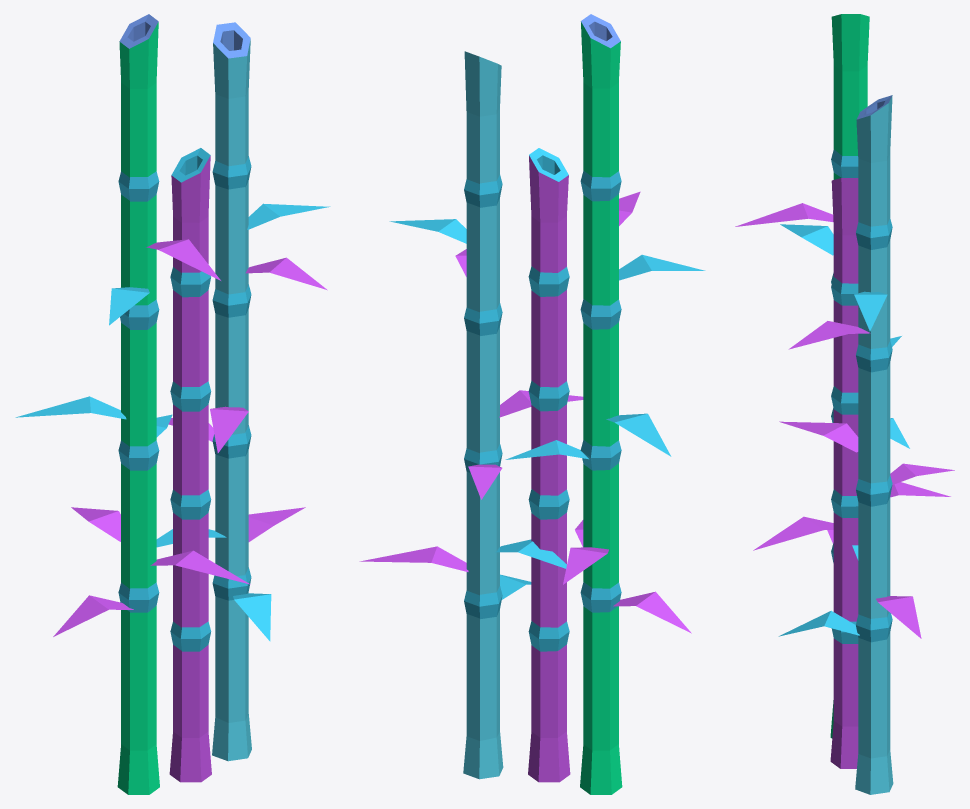
File: 055_Bamboo.fbx
3 renders of one model, left to right at view 1: azimuth 30°, elevation 25°; view 2: azimuth 150°, elevation 25°; view 3: azimuth 270°, elevation 25°, orthographic. The views are drawn at different scales.
Visible parts, largest first — view 1: BAMBOO; view 2: BAMBOO; view 3: BAMBOO.
Boxes of the visible parts, x1=… form: BAMBOO: x1=15, y1=14, x2=330, y2=794; BAMBOO: x1=359, y1=14, x2=705, y2=794; BAMBOO: x1=735, y1=14, x2=954, y2=794.
Size of the model in its own units: 75.94 by 184 by 50.65.
